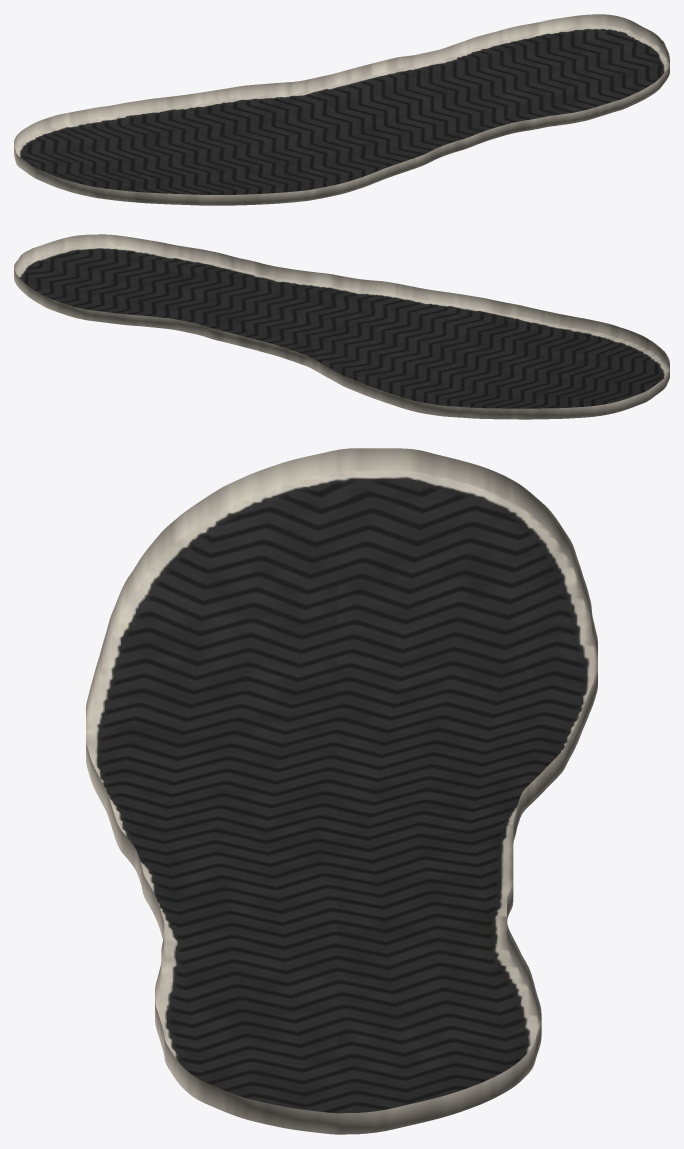
File: superstar-outsole-left.glb
The picture shows the model from 3 angles, top to bottom: view 1: azimuth 30°, elevation 25°; view 2: azimuth 150°, elevation 25°; view 3: azimuth 270°, elevation 25°; orthographic projection. The views are drawn at different scales.
Visible parts, largest first — view 1: Outsole_L; view 2: Outsole_L; view 3: Outsole_L.
Part boxes in pixels (box(x1,y1,x2,y2)): Outsole_L: box(14, 14, 669, 205); Outsole_L: box(14, 234, 669, 419); Outsole_L: box(86, 448, 597, 1134).
Bounding box in the file's own units: 1.85 × 0.1205 × 0.652.
1 material, 1 textured.
